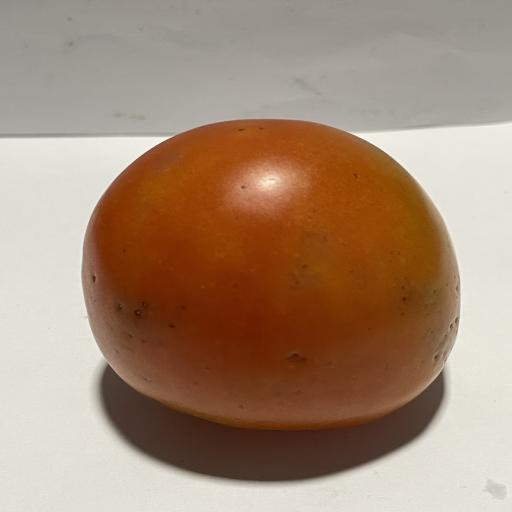unripe: (82, 119, 460, 430)
